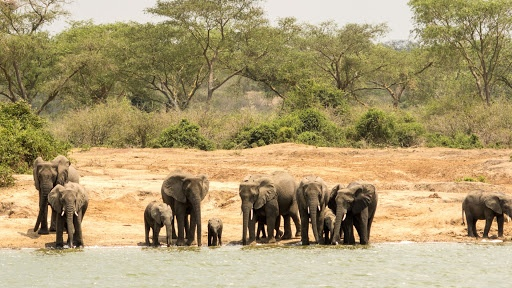elephant: (237, 169, 301, 251), (29, 151, 80, 236), (159, 168, 210, 248), (328, 179, 384, 246), (46, 182, 92, 251), (460, 189, 512, 242), (294, 175, 331, 247), (142, 198, 175, 251), (206, 215, 224, 246)
